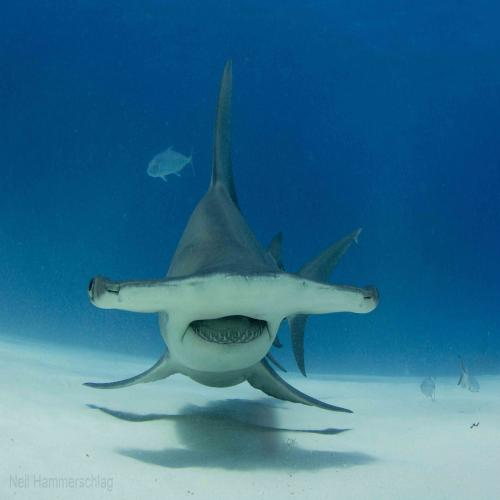shark-endangered: (82, 57, 380, 415)
